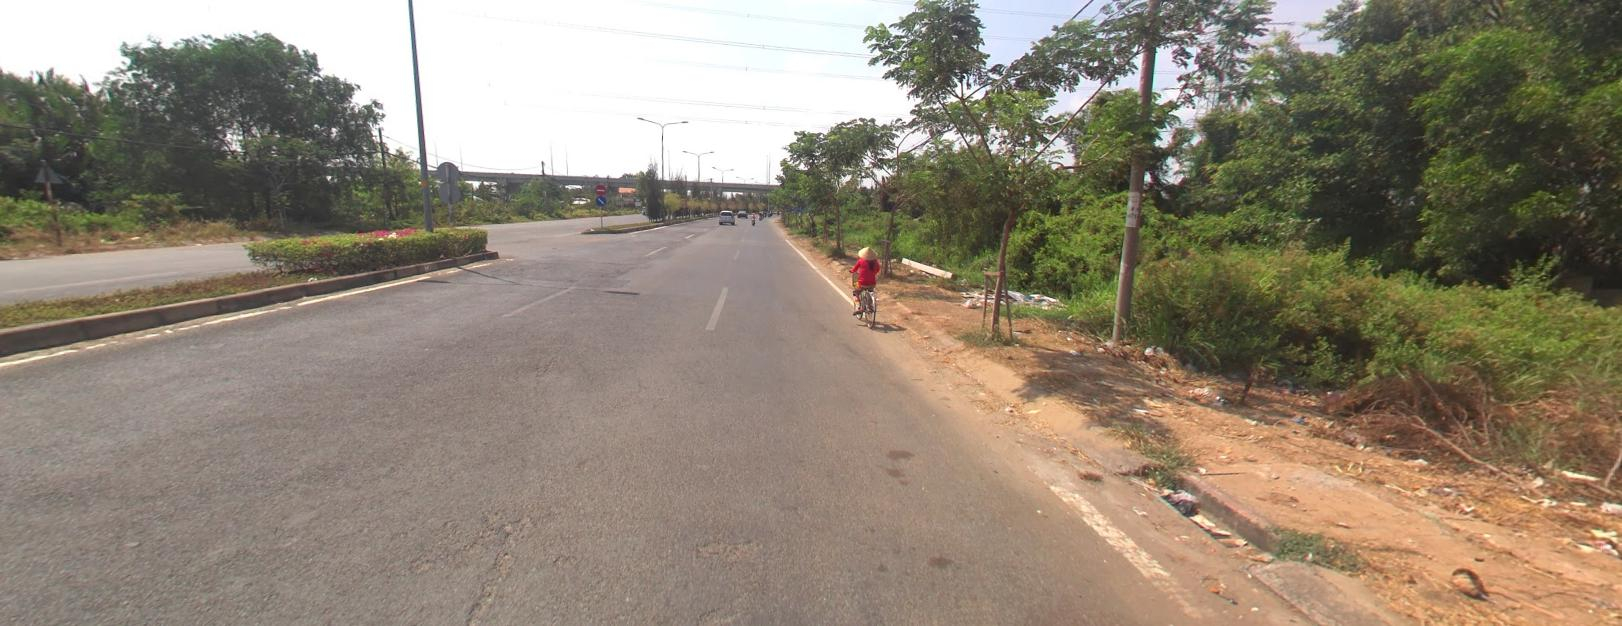Cam nguoc chieu: (595, 183, 605, 193)
Hieu lenh: (595, 193, 605, 205)
